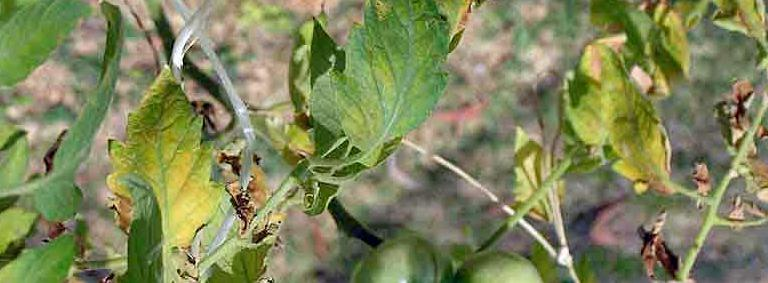Tomato mold leaf: (85, 49, 229, 262), (328, 0, 491, 152), (588, 51, 685, 194)
